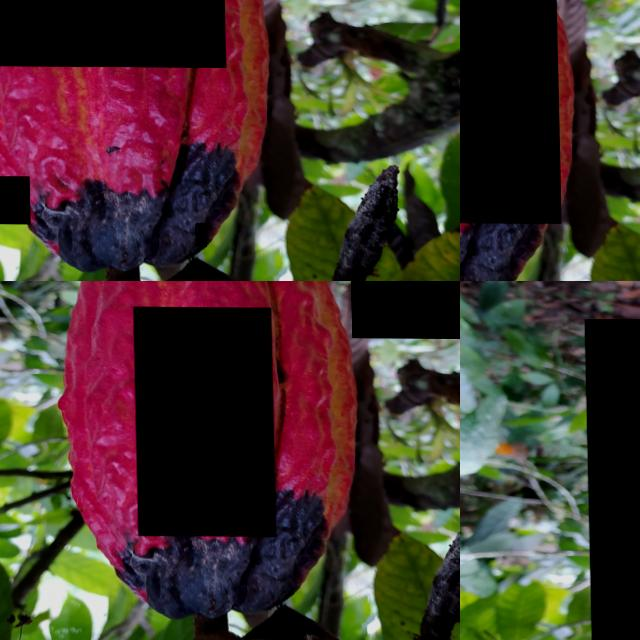Fitoftora: (584, 318, 640, 640)
Sana: (132, 307, 274, 536), (460, 0, 559, 222), (0, 175, 28, 224), (193, 223, 204, 246)
